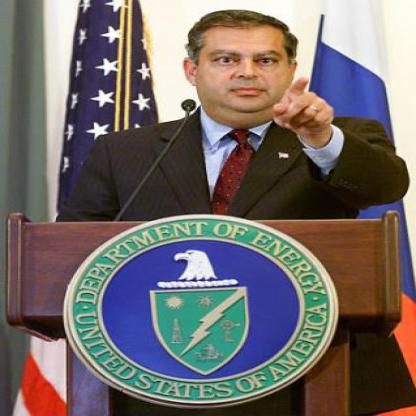face: (195, 12, 293, 119)
